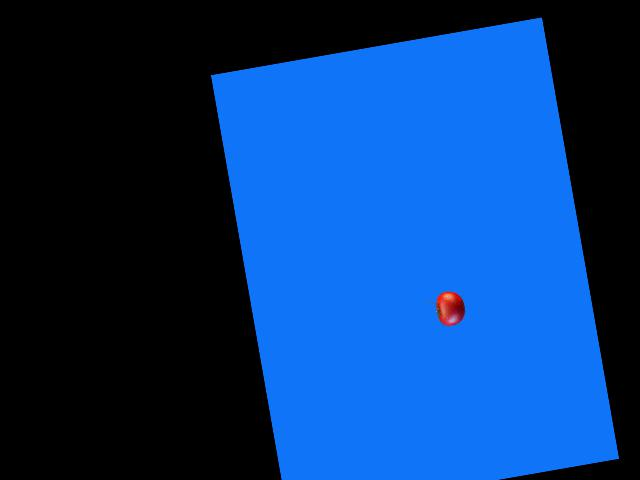tomato: (434, 289, 467, 328)
